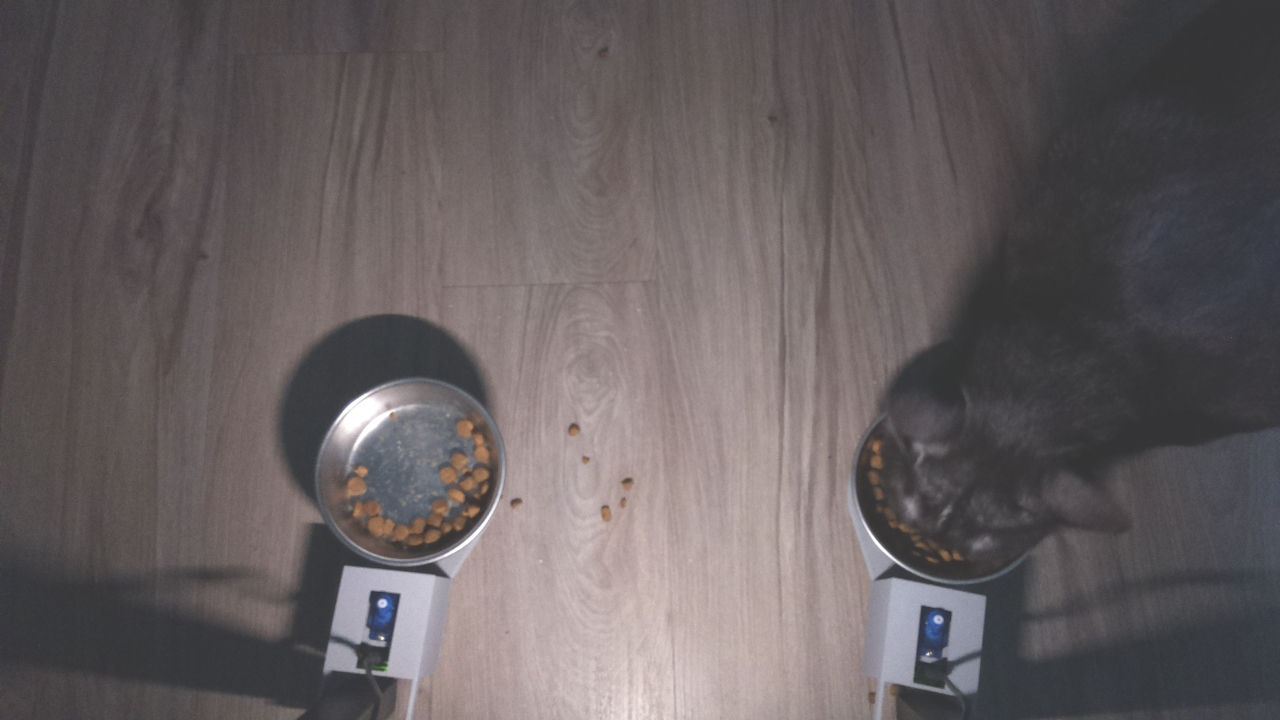open_bowl: (312, 370, 508, 571)
saki_eating: (842, 326, 1155, 591)
